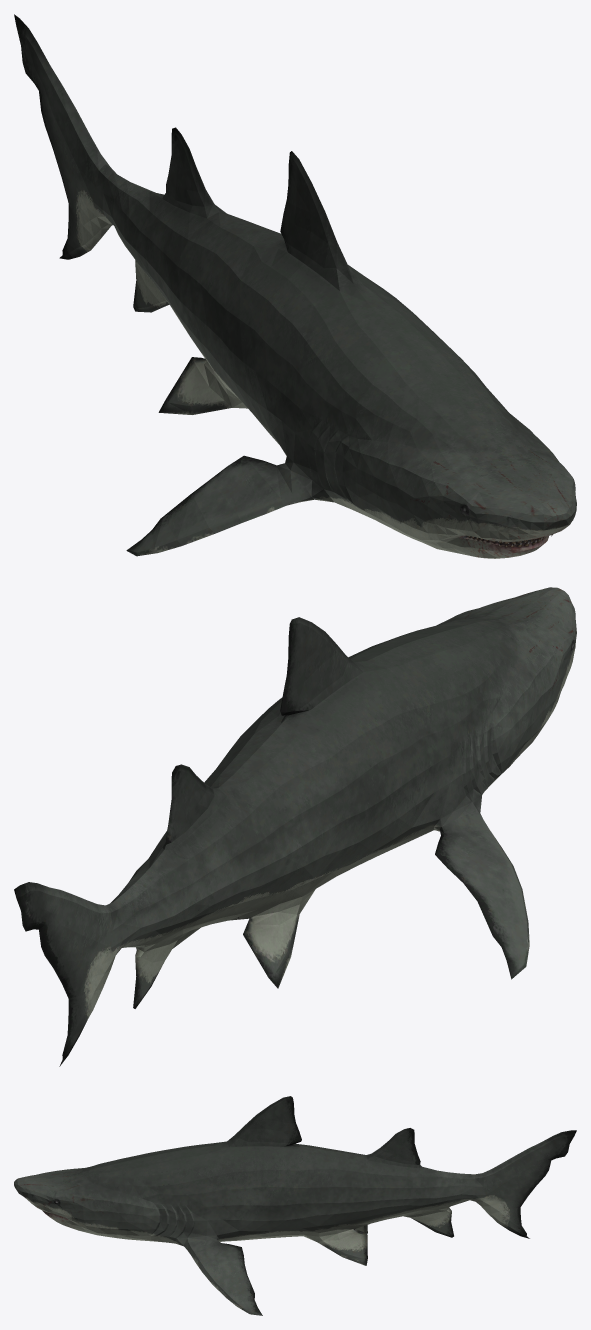
Rendered from SandTiger.obj.
3 renders of one model, top to bottom at view 1: azimuth 30°, elevation 25°; view 2: azimuth 150°, elevation 25°; view 3: azimuth 270°, elevation 25°, orthographic. The views are drawn at different scales.
Visible parts, largest first — view 1: SandTiger; view 2: SandTiger; view 3: SandTiger.
Part boxes in pixels (x1,y1,x2,y2): SandTiger: [14, 14, 576, 558]; SandTiger: [14, 587, 576, 1066]; SandTiger: [14, 1096, 576, 1315].
Size of the model in its own units: 80.19 by 65.44 by 195.
1 material, 1 textured.
